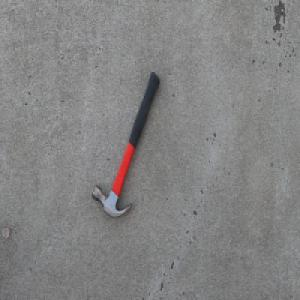Hammer: (91, 71, 160, 219)
